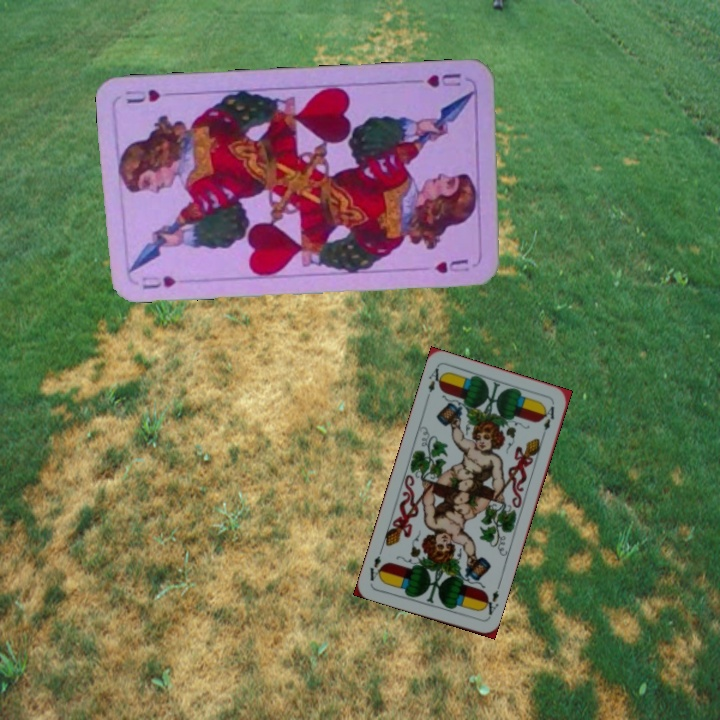EA: (478, 586, 502, 621), (424, 364, 446, 395)
HU: (423, 69, 464, 90), (138, 271, 178, 292)
